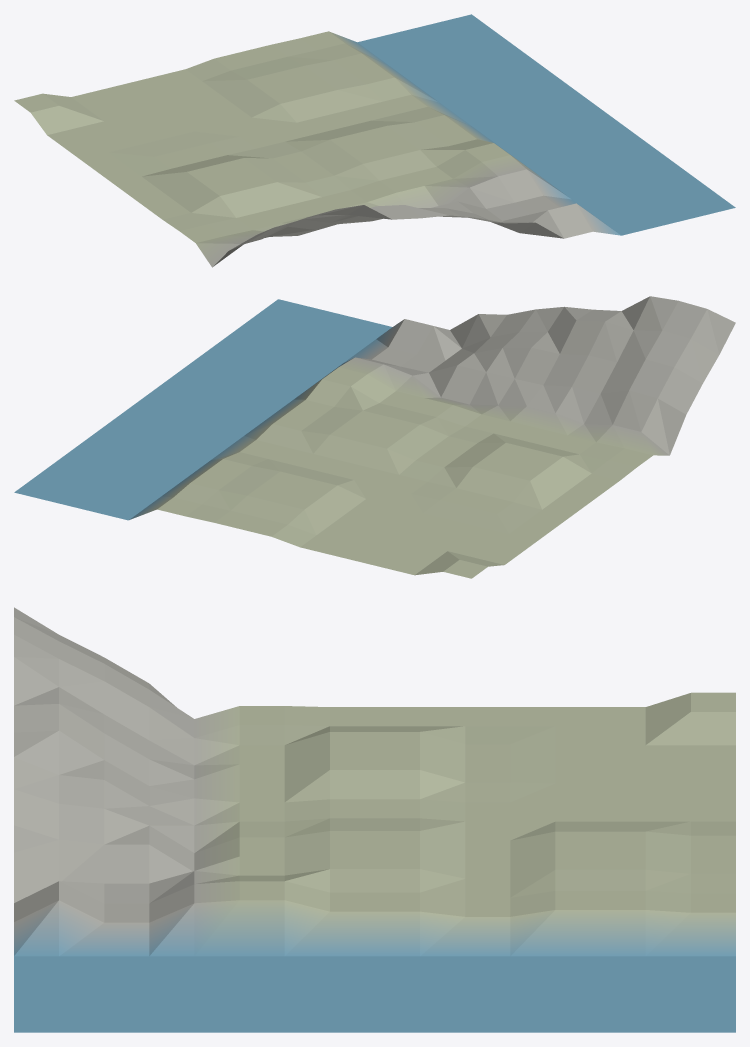
3 views of the same model, one above another, from view 1: azimuth 30°, elevation 25°; view 2: azimuth 150°, elevation 25°; view 3: azimuth 270°, elevation 25° (orthographic). The views are drawn at different scales.
Size of the model in its own units: 32 by 6.42 by 32.
